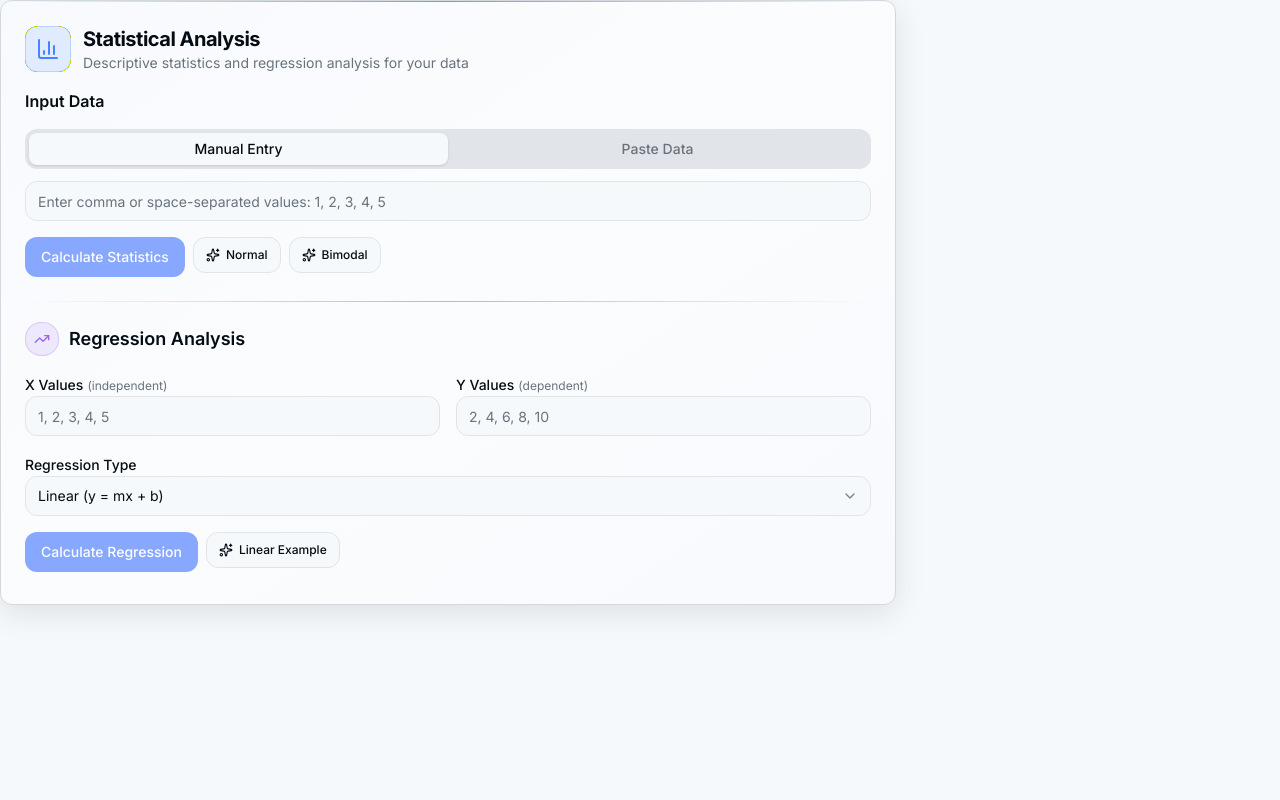
StatsPanel (UI isolation, math engine mocked) › Data Input › clears data when clear button is clicked
Type "1, 2, 3, 4, 5" into the field with placeholder "Enter comma or space-separated values: 1, 2, 3, 4, 5" at (448, 201), box [25,181,871,221]
Then press Enter
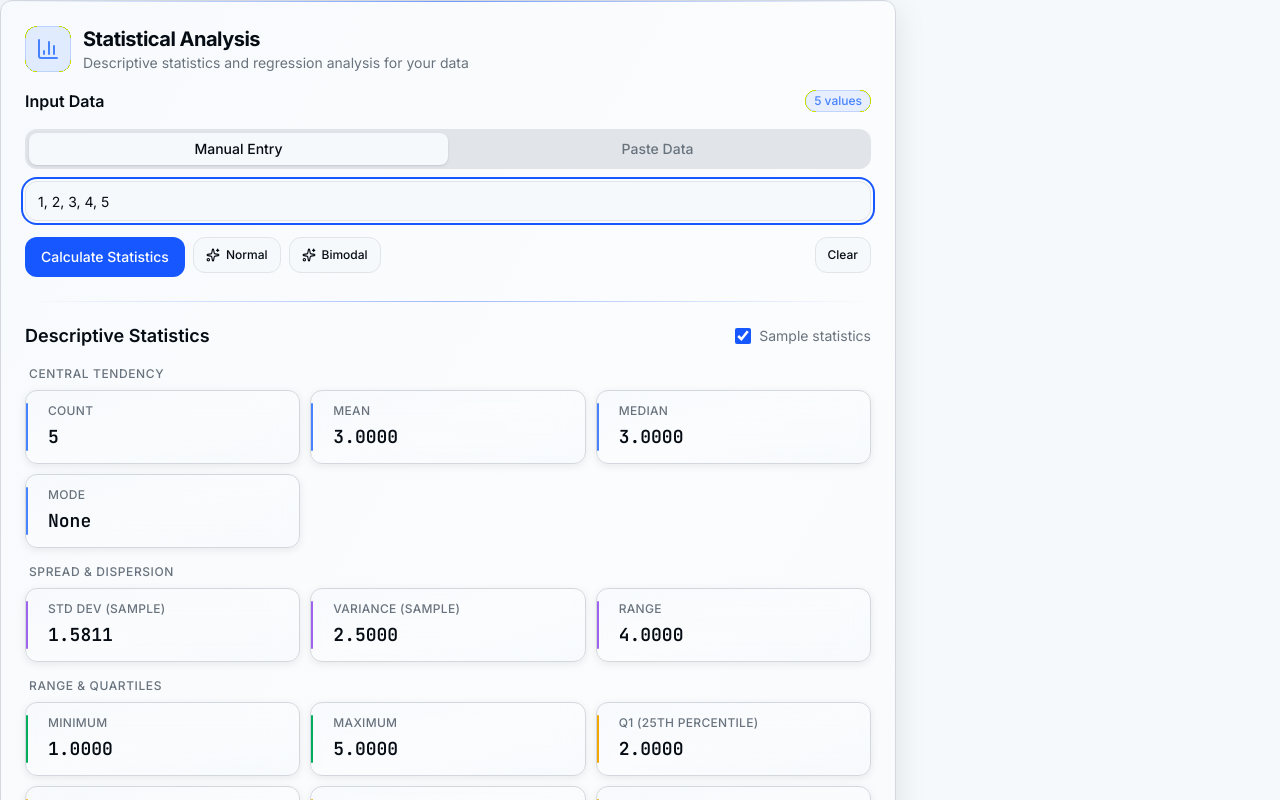
Now the text "5 values" is shown, box [805,90,871,112]
Click the button "Clear" at (843, 255), box [814,237,871,273]
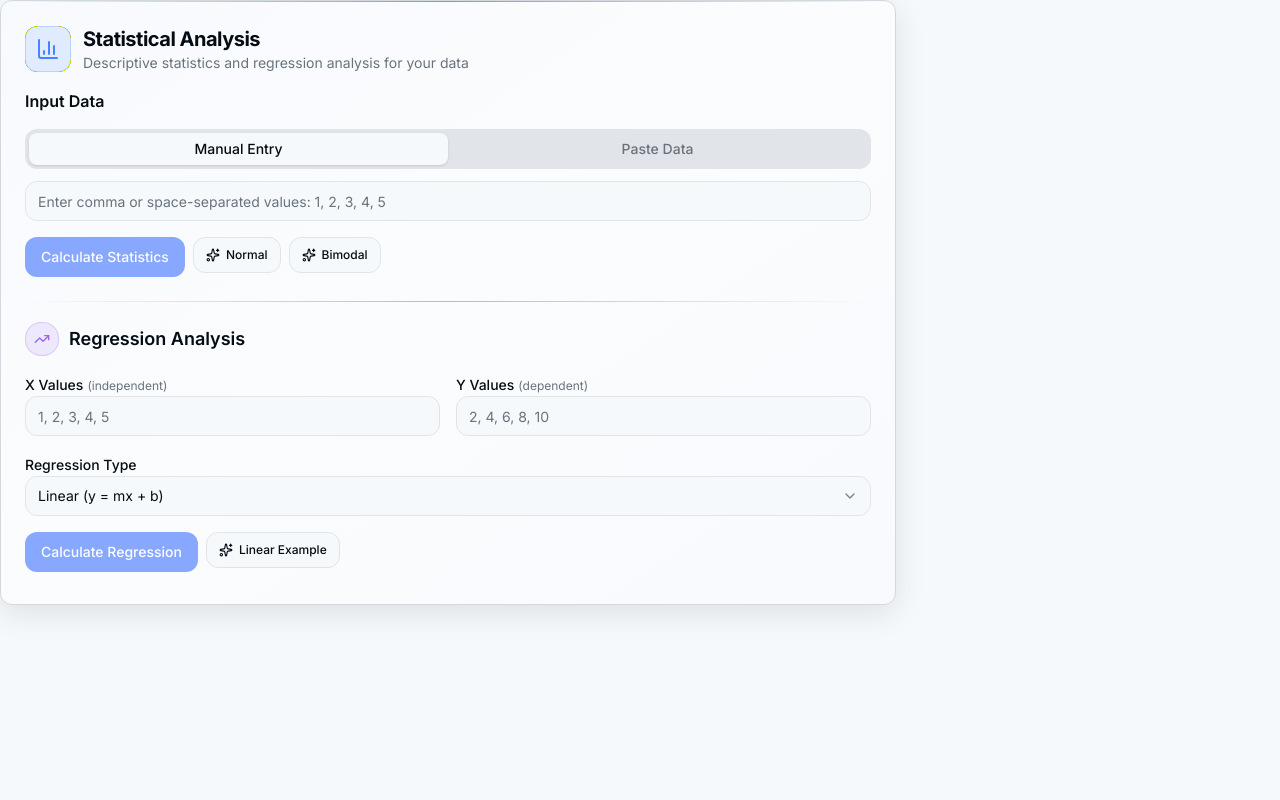
Now the text "5 values" is gone
